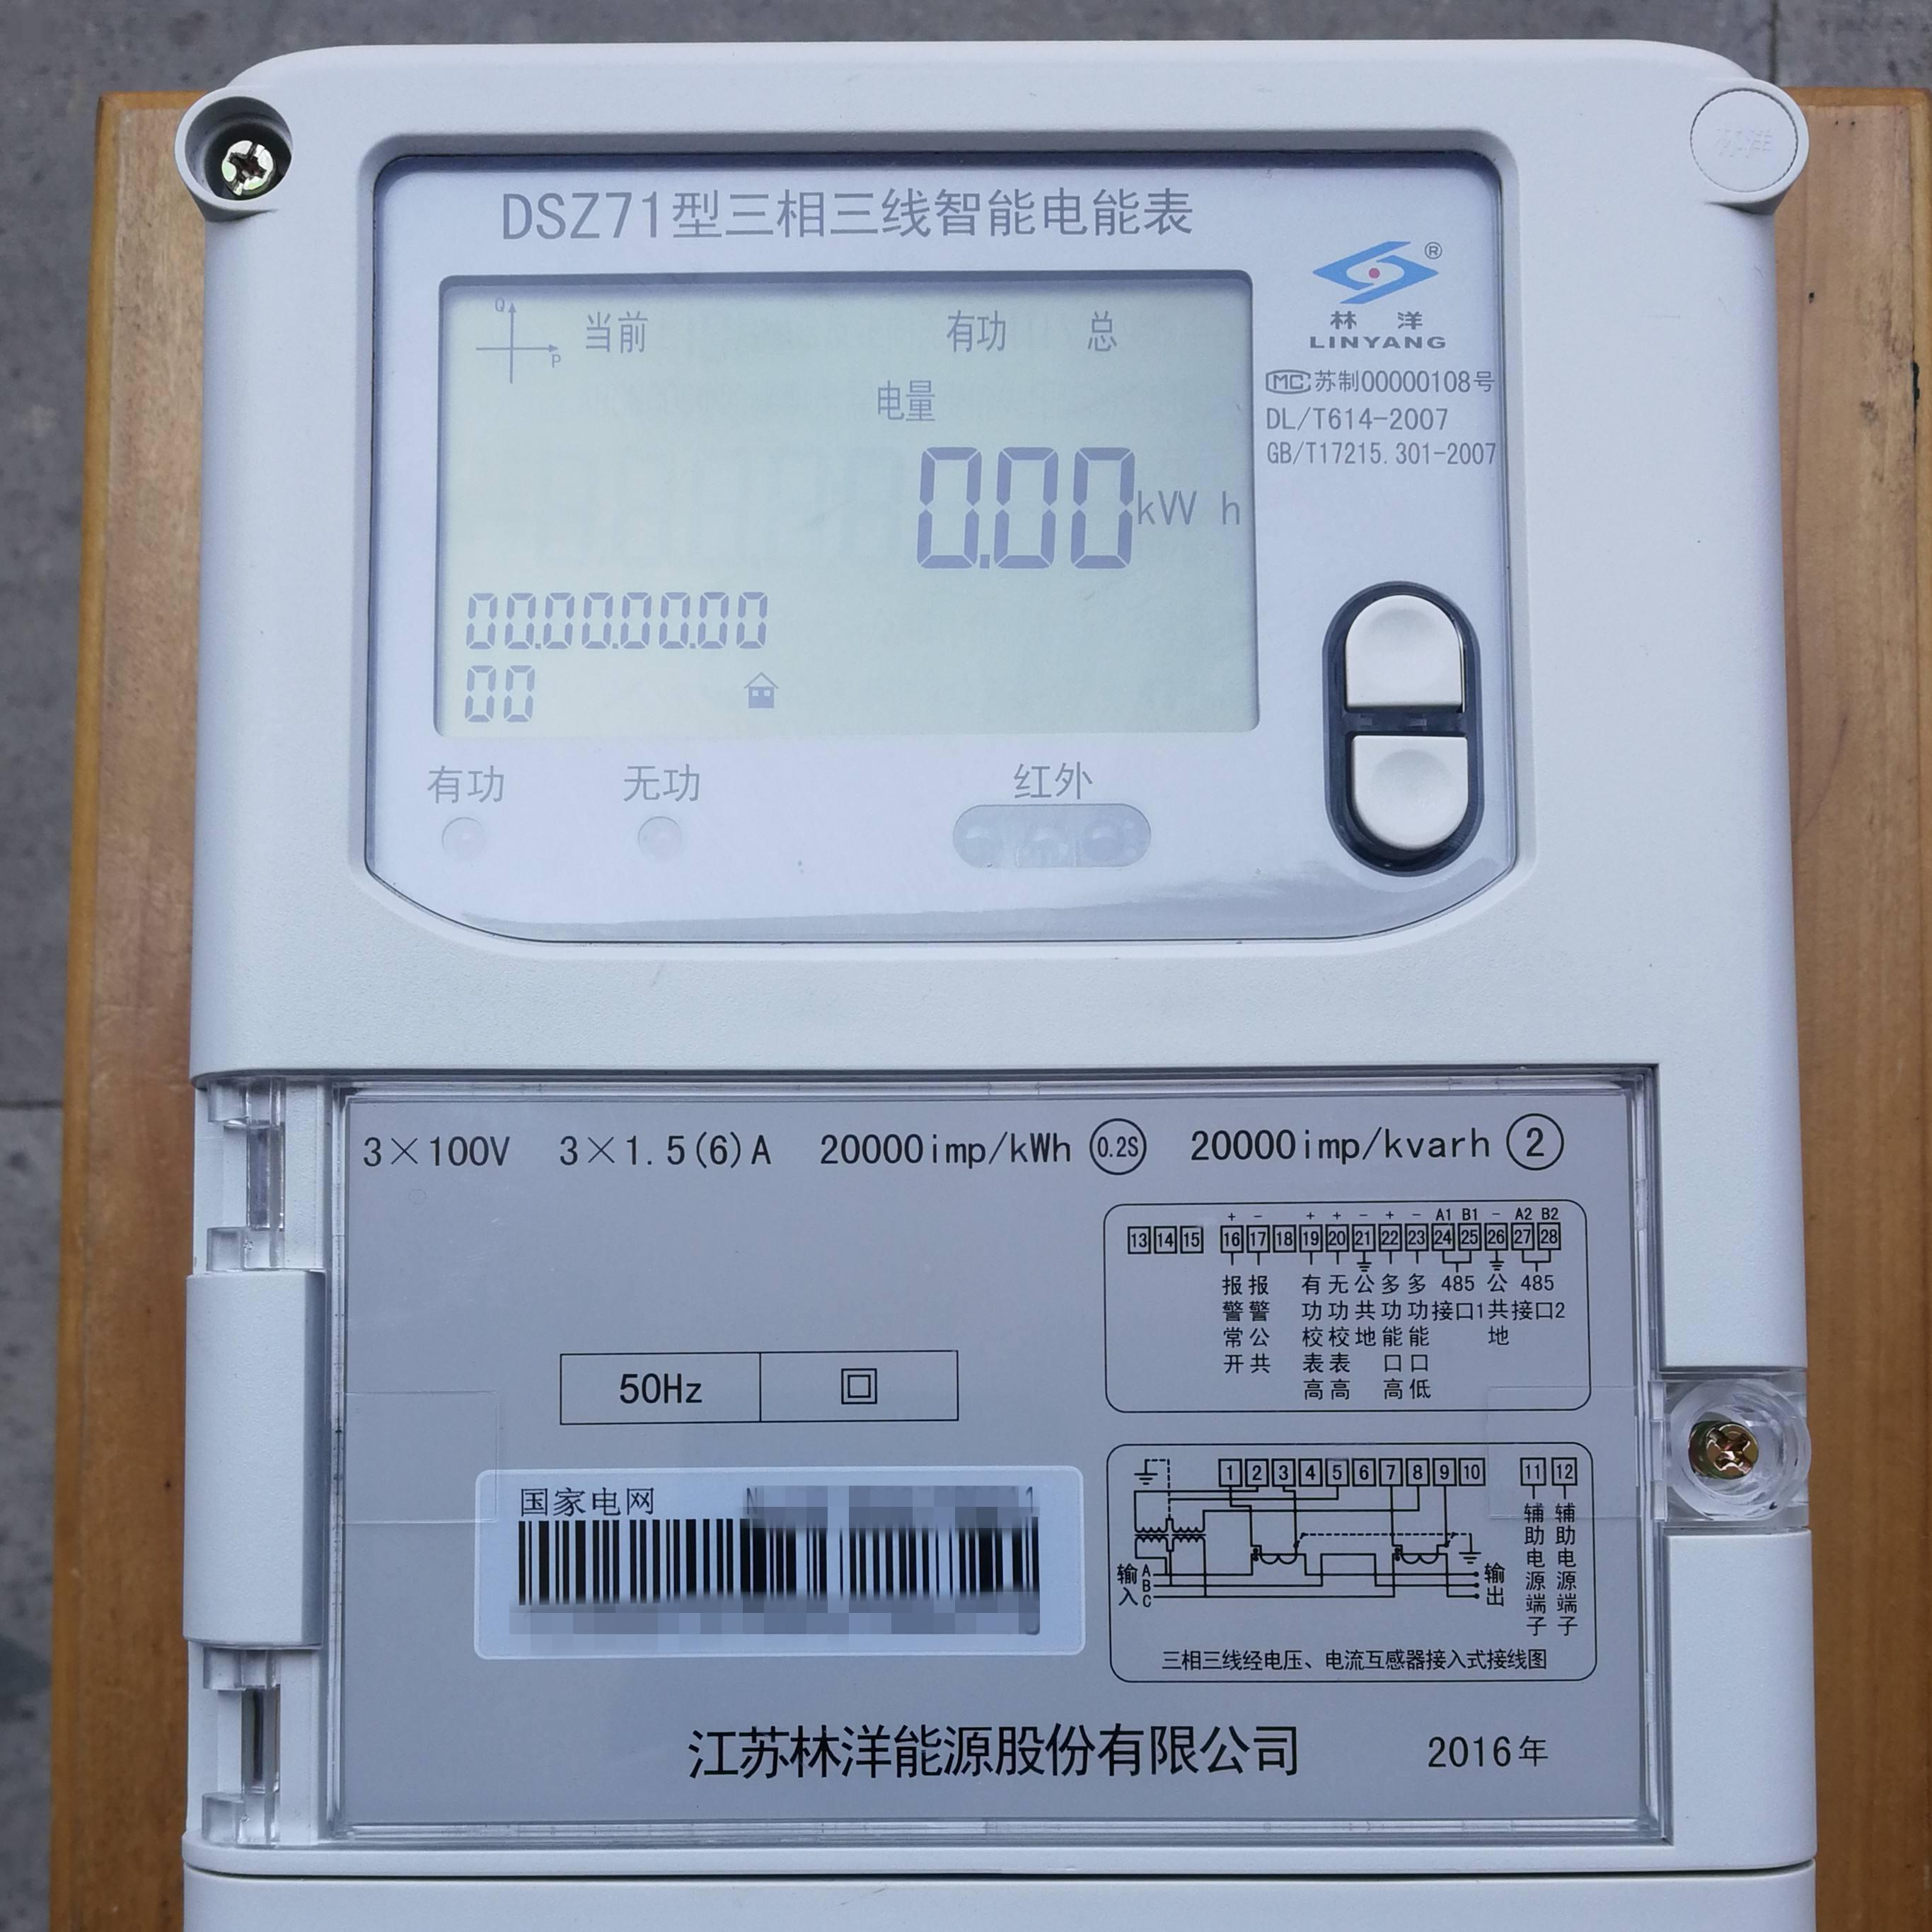digital: (179, 39, 1805, 1921)
